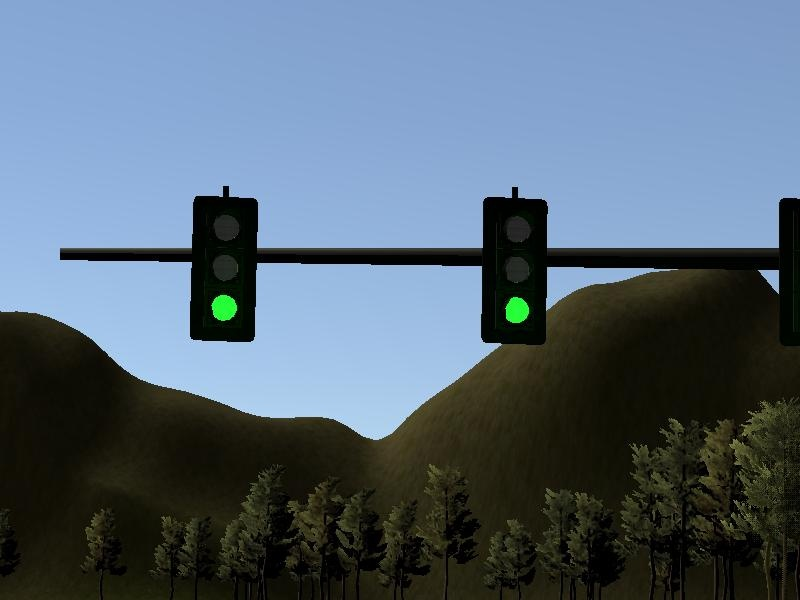GREEN: (480, 196, 549, 345), (190, 196, 256, 341)
